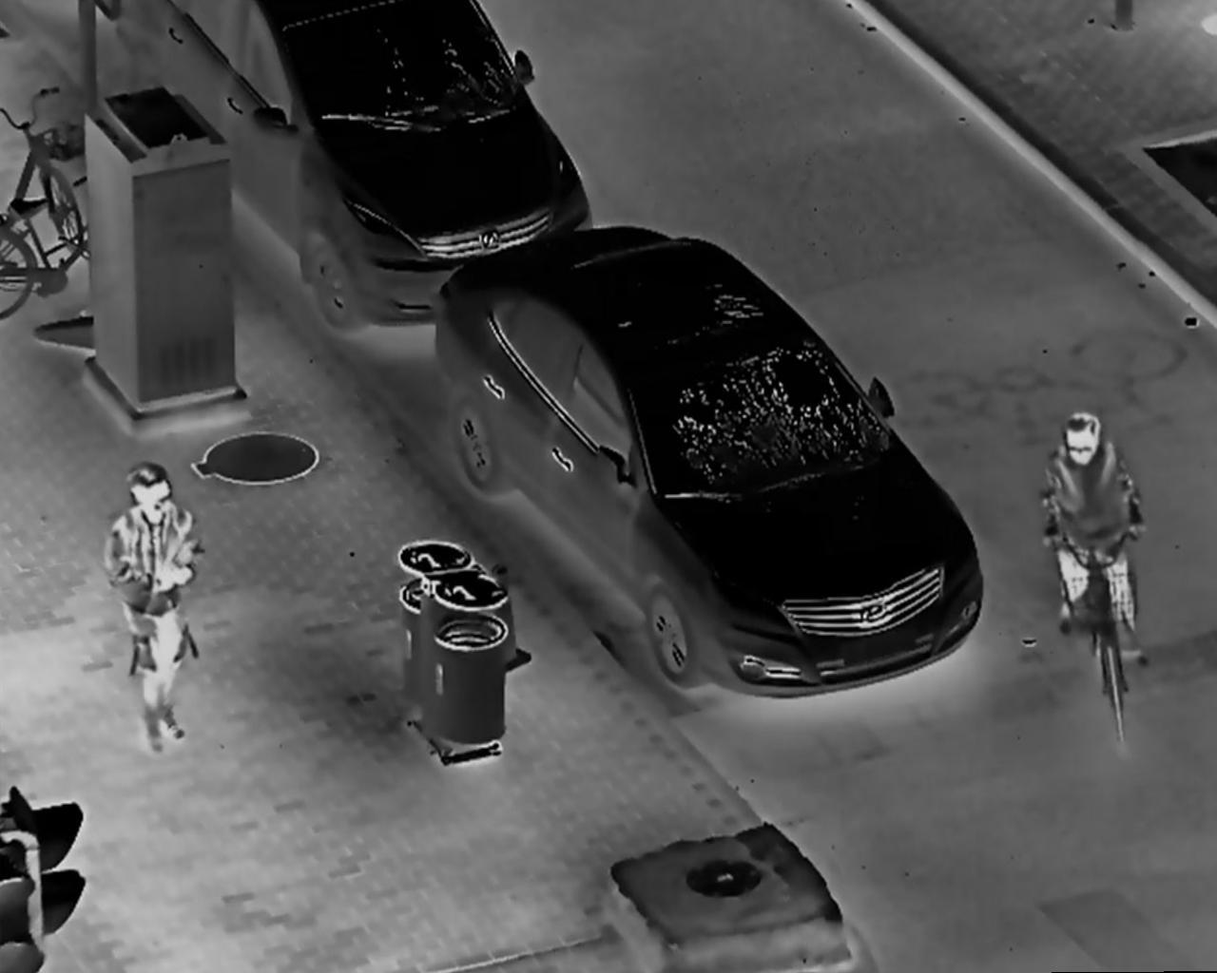person: (1031, 409, 1153, 667), (102, 460, 209, 749)
